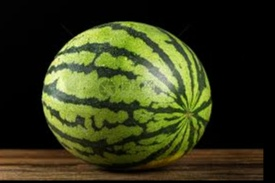watermelon: (42, 21, 210, 168)
